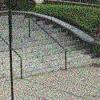stairs: (0, 17, 66, 77)
